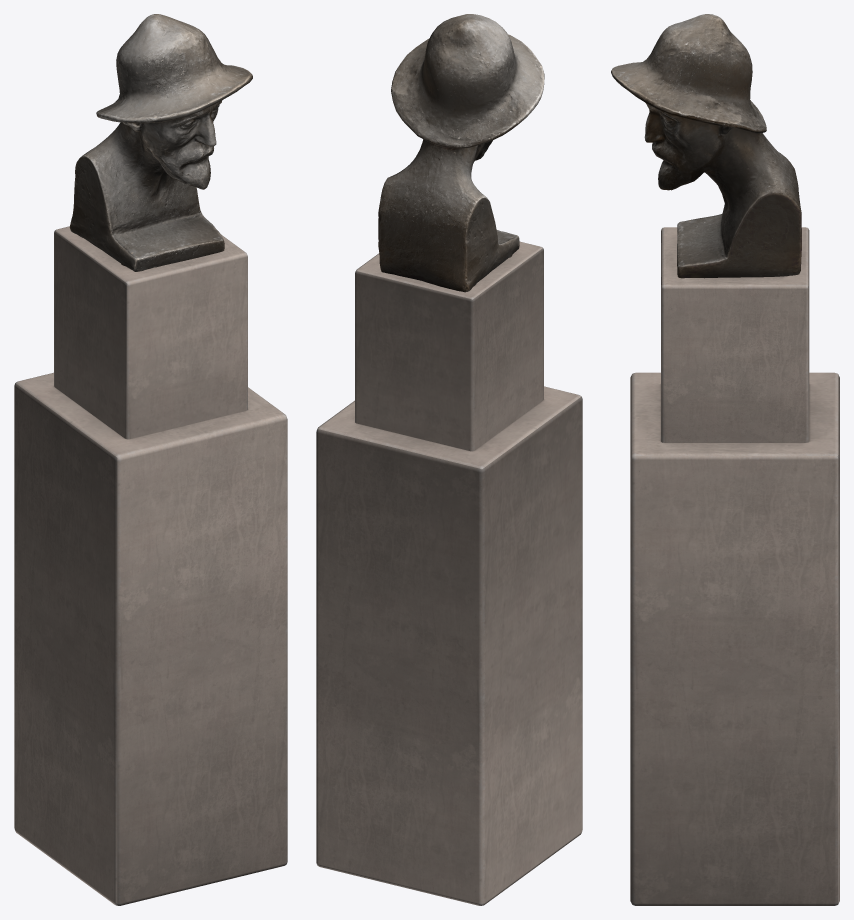
The model's file is BustofRenoir.glb.
The picture shows the model from 3 angles, left to right: view 1: azimuth 30°, elevation 25°; view 2: azimuth 150°, elevation 25°; view 3: azimuth 270°, elevation 25°; orthographic projection. The views are drawn at different scales.
Parts seen in each view (by area): view 1: Base_low, BustofRenoir_low; view 2: Base_low, BustofRenoir_low; view 3: Base_low, BustofRenoir_low.
Boxes of the visible parts, box(x1,y1,x2,y2) form: Base_low: box(14, 226, 287, 905); BustofRenoir_low: box(69, 14, 252, 271); Base_low: box(316, 241, 582, 905); BustofRenoir_low: box(378, 14, 544, 292); Base_low: box(630, 227, 839, 905); BustofRenoir_low: box(611, 14, 801, 278).
Size of the model in its own units: 0.3297 by 1.54 by 0.377.
1 material, 1 textured.
